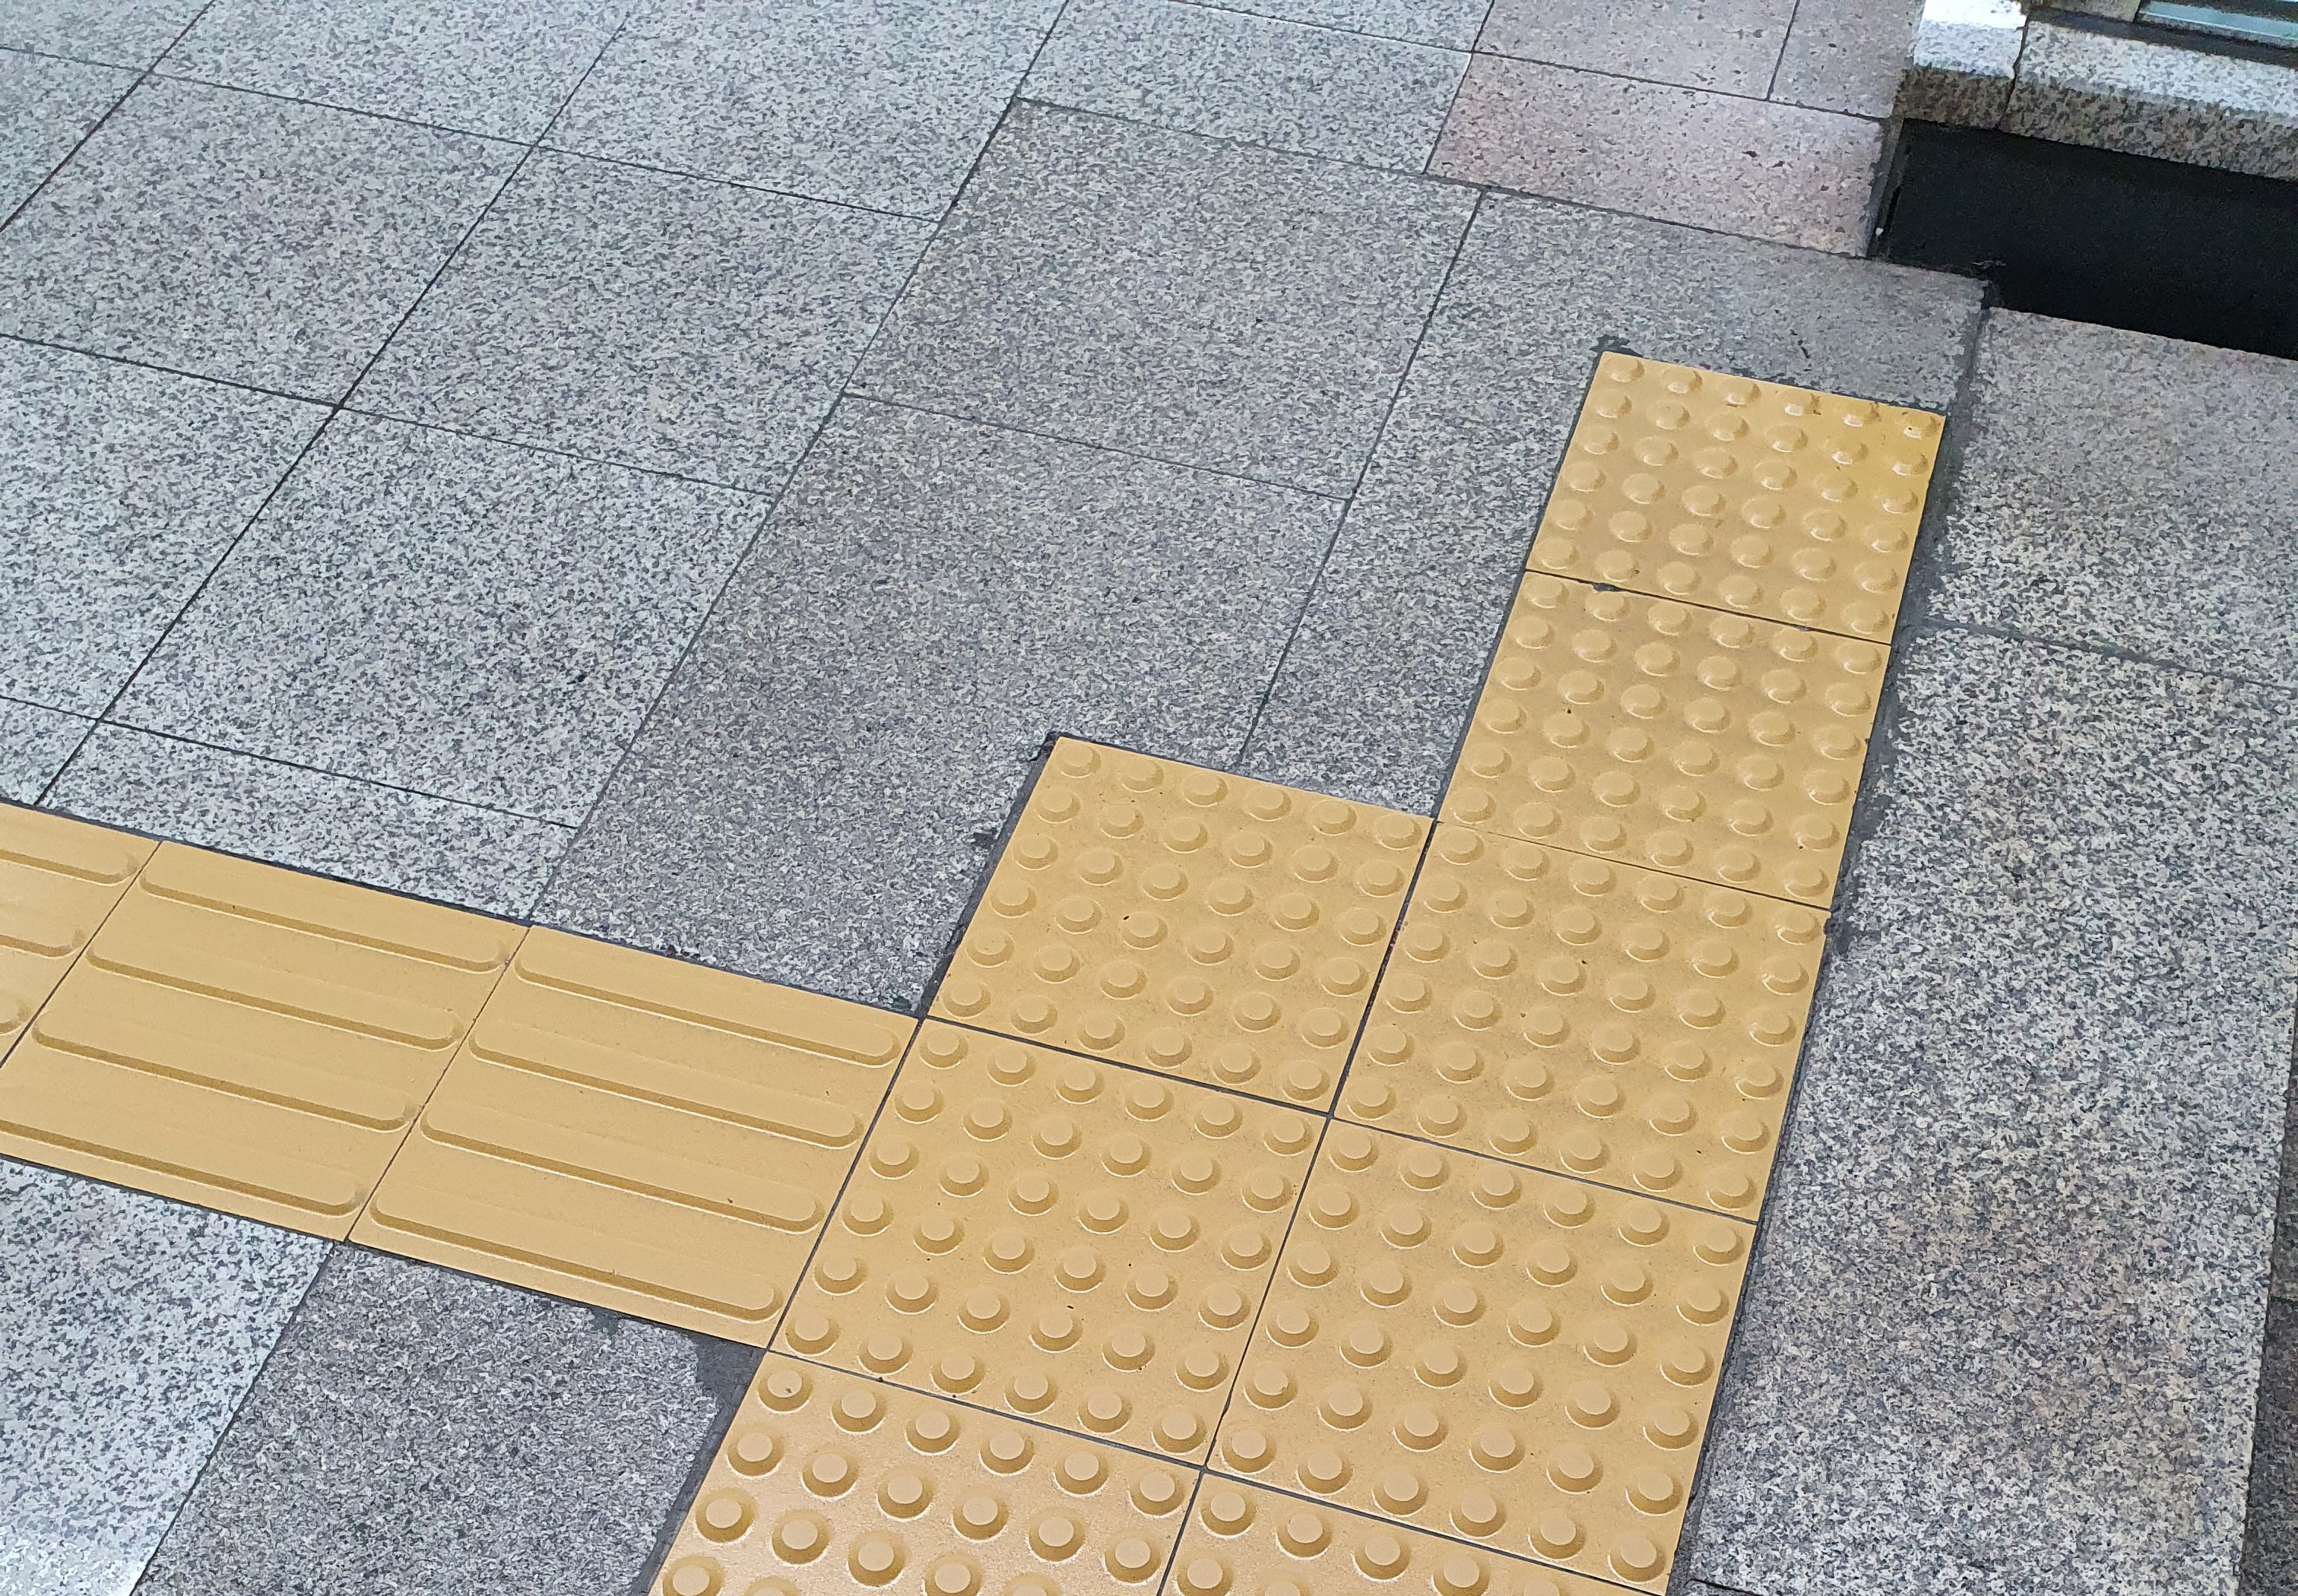guideBlock: (16, 835, 519, 1208), (417, 983, 843, 1282)
warningBlock: (1247, 1137, 1730, 1545), (1393, 824, 1795, 1242), (854, 1076, 1292, 1456), (1020, 746, 1381, 1086), (1477, 559, 1875, 868), (698, 1407, 1193, 1596), (1589, 344, 1889, 629)
